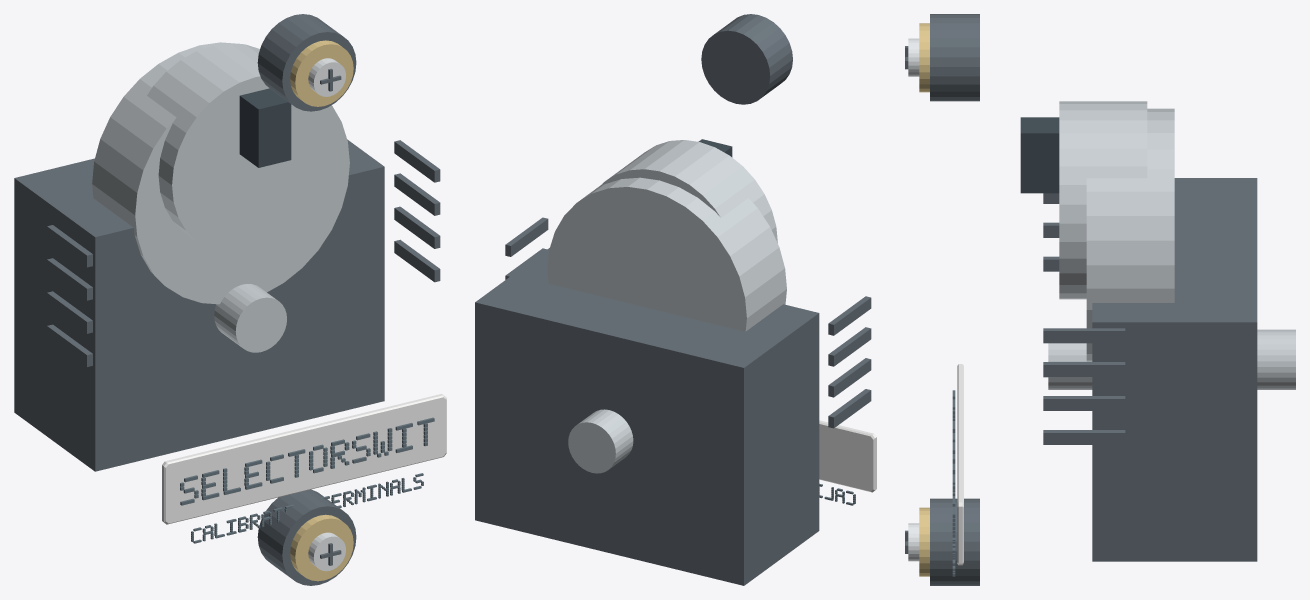
Rendered from selectorSwitch.glb.
3 views of the same model, side by side, from view 1: azimuth 30°, elevation 25°; view 2: azimuth 150°, elevation 25°; view 3: azimuth 270°, elevation 25° (orthographic). The views are drawn at different scales.
Parts seen in each view (by area): view 1: selectorSwitch-detailed; view 2: selectorSwitch-detailed; view 3: selectorSwitch-detailed.
Part boxes in pixels (box(x1,y1,x2,y2)): selectorSwitch-detailed: box(14, 14, 446, 585); selectorSwitch-detailed: box(475, 14, 876, 585); selectorSwitch-detailed: box(905, 14, 1295, 585).
Bounding box in the file's own units: 1.49 × 2.23 × 1.4.
